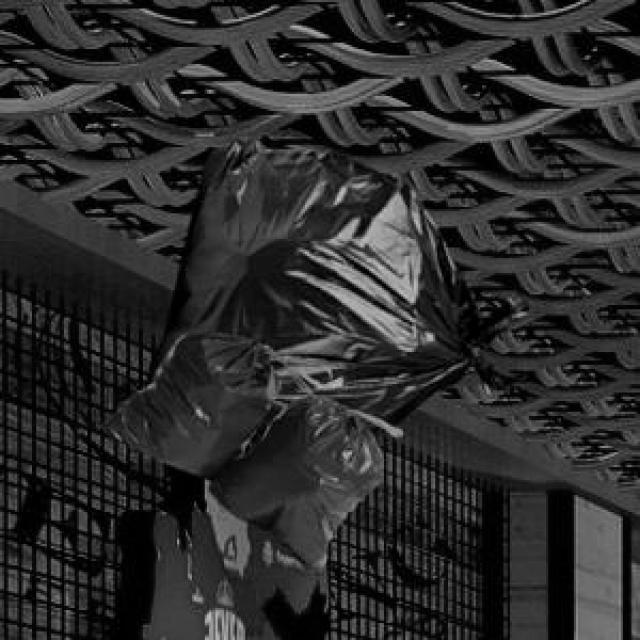miscellaneous trash: (143, 132, 525, 437), (96, 329, 399, 574)
